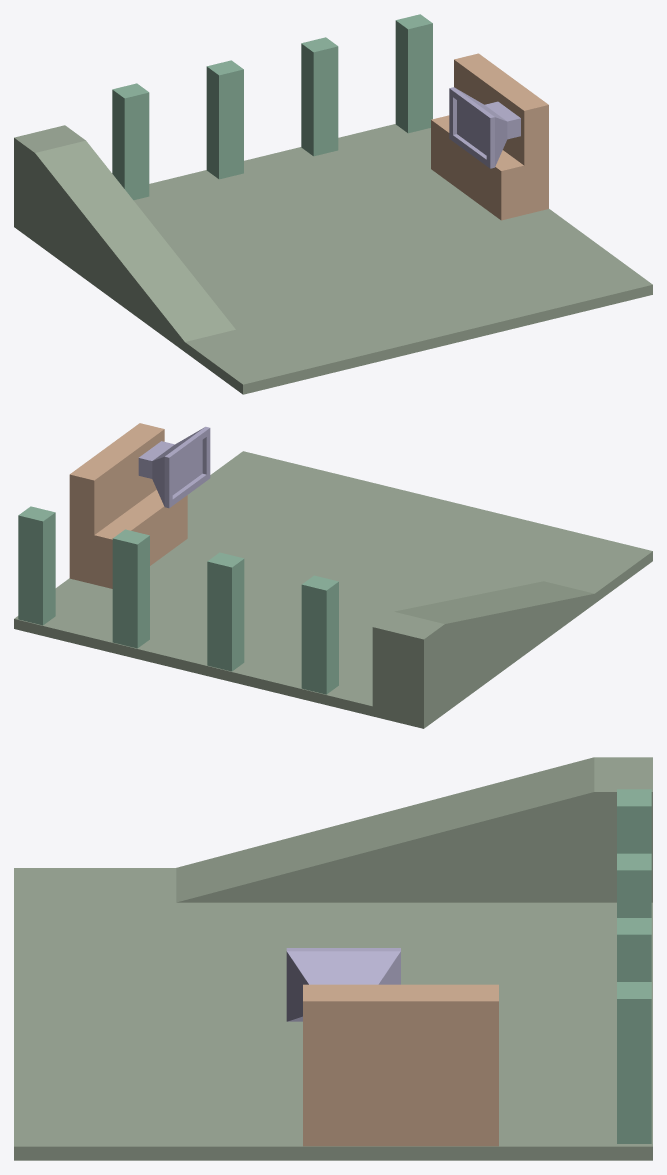
File: pokerRoom6.dae
3 views of the same model, one above another, from view 1: azimuth 30°, elevation 25°; view 2: azimuth 150°, elevation 25°; view 3: azimuth 270°, elevation 25° (orthographic). The views are drawn at different scales.
Parts seen in each view (by area): view 1: floor, arch, Cube_001, Cube; view 2: floor, arch, Cube_001, Cube; view 3: floor, Cube_001, arch, Cube.
Boxes of the visible parts, left/top/right/bottom form: floor: left=14, top=124, right=652, bottom=394; arch: left=112, top=14, right=432, bottom=200; Cube_001: left=431, top=53, right=548, bottom=220; Cube: left=449, top=87, right=520, bottom=168; floor: left=14, top=451, right=652, bottom=728; arch: left=18, top=506, right=338, bottom=694; Cube_001: left=69, top=423, right=187, bottom=588; Cube: left=138, top=426, right=210, bottom=508; floor: left=14, top=757, right=652, bottom=1160; Cube_001: left=303, top=984, right=498, bottom=1146; arch: left=617, top=789, right=651, bottom=1143; Cube: left=286, top=948, right=400, bottom=1021.
Bounding box in the file's own units: 29.41 × 28.48 × 8.28.
